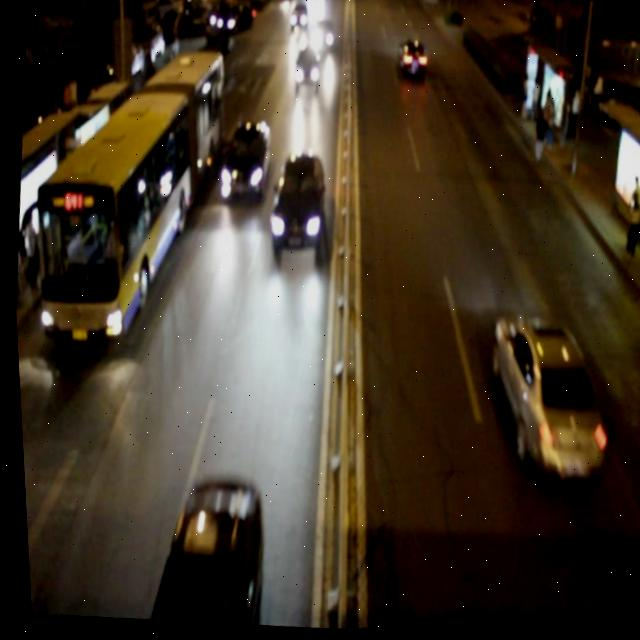car: (476, 312, 611, 492), (140, 466, 264, 629), (261, 148, 328, 252), (215, 118, 272, 204), (394, 38, 430, 83), (289, 46, 321, 91), (309, 19, 335, 55), (287, 0, 309, 33)
van: (14, 32, 228, 347)
